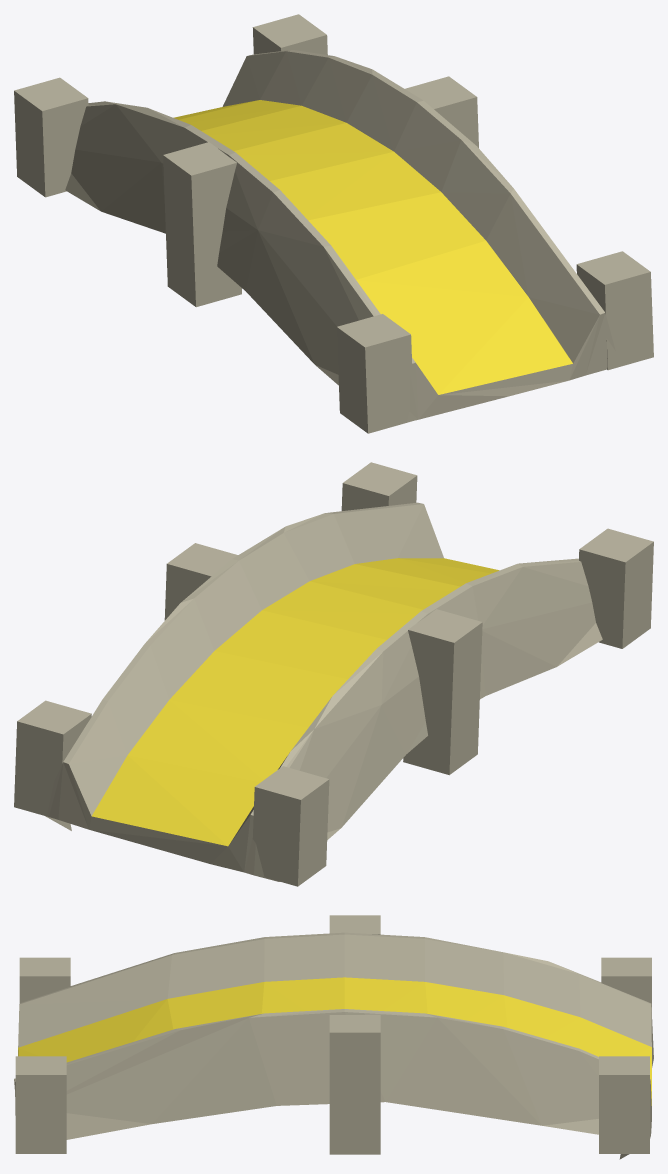
The model's file is yellowStreet.fbx.
3 views of the same model, one above another, from view 1: azimuth 30°, elevation 25°; view 2: azimuth 150°, elevation 25°; view 3: azimuth 270°, elevation 25° (orthographic). The views are drawn at different scales.
Visible parts, largest first — view 1: Torus; view 2: Torus; view 3: Torus.
Part boxes in pixels (x1,y1,x2,y2): Torus: (14, 14, 653, 433); Torus: (14, 462, 653, 886); Torus: (14, 915, 653, 1159).
Bounding box in the file's own units: 28.19 × 14.91 × 59.68.
